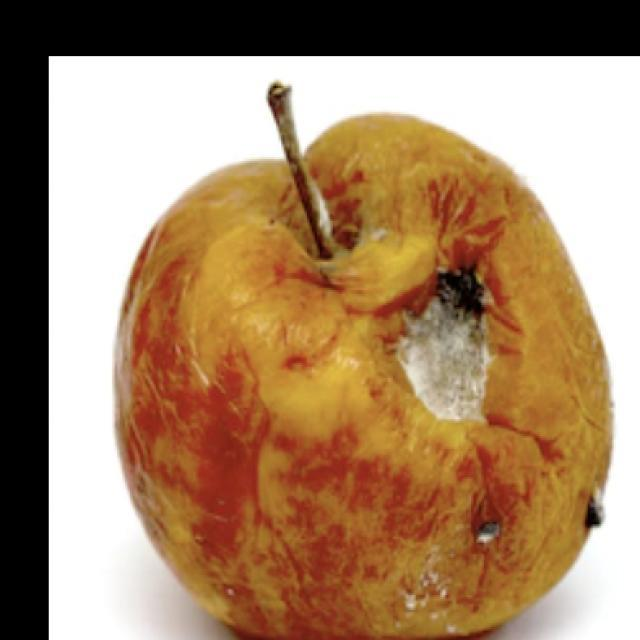Rotten: (111, 106, 615, 640)
